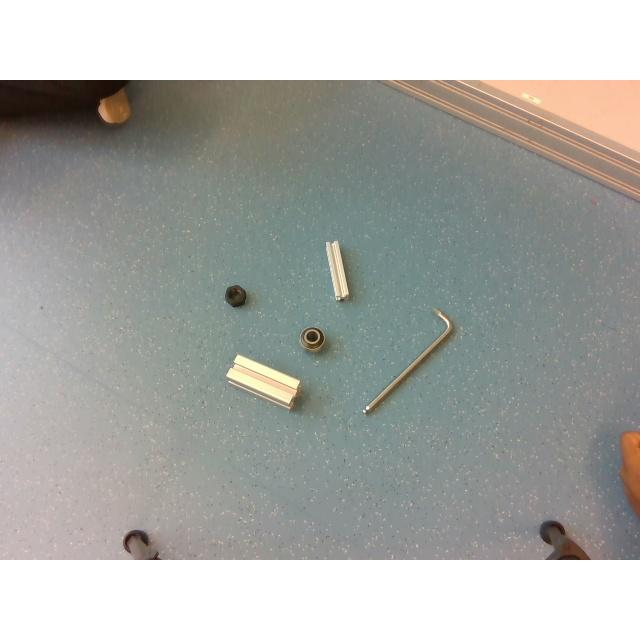AllenKey: (362, 308, 453, 414)
Bearing2: (300, 326, 324, 350)
F20_20_G: (326, 240, 349, 300)
M20: (226, 285, 247, 307)
S40_40_G: (226, 355, 300, 409)
